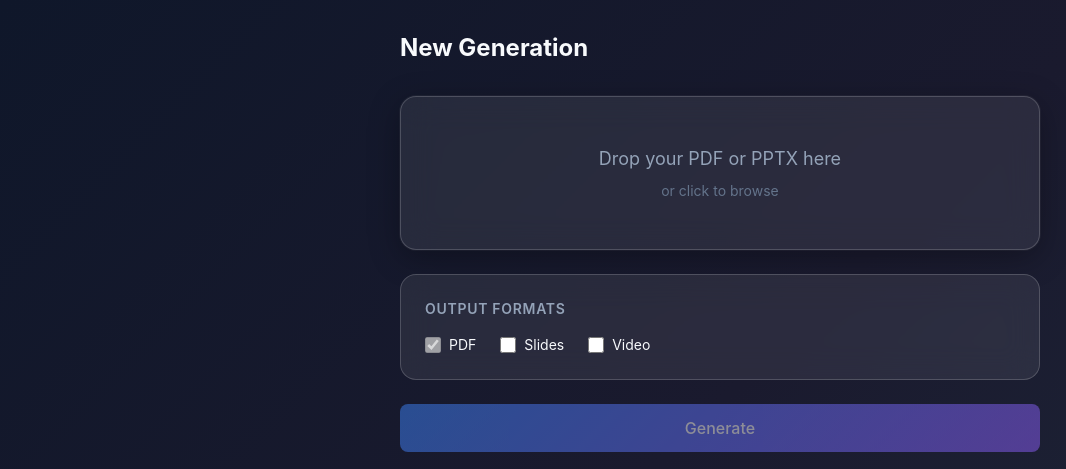
Test: UploadPage › auto-selects PPT when Video is checked
What coordinates should you click on to do the following:
click the checkbox labelled "Video"
I would click on:
 (596, 345)
Its box is [588, 337, 604, 353].
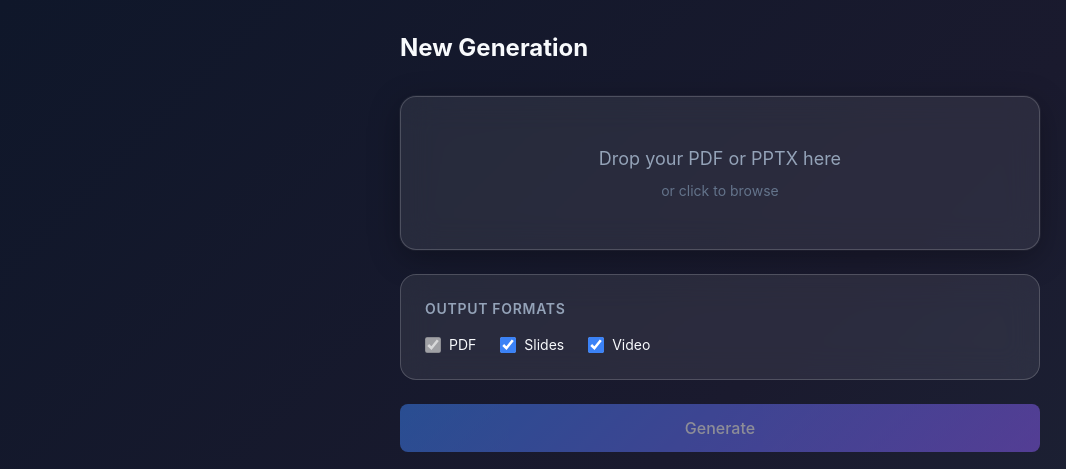
Expected: the checkbox labelled "Video" is checked, [588, 337, 604, 353]
Expected: the checkbox labelled "Slides" is checked, [500, 337, 516, 353]
